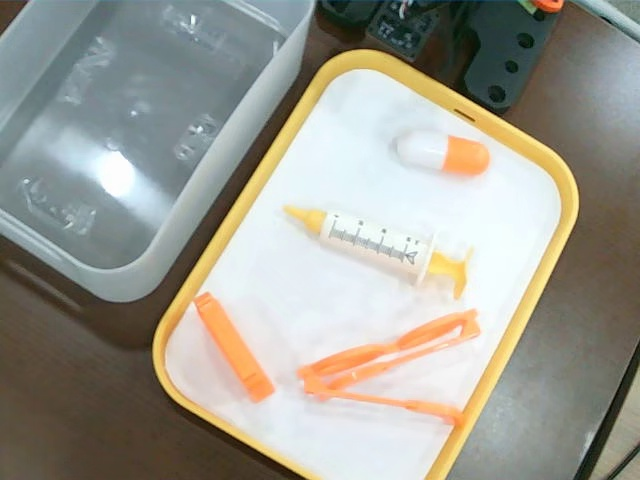pill: (390, 128, 492, 182)
syringe: (280, 204, 479, 300)
